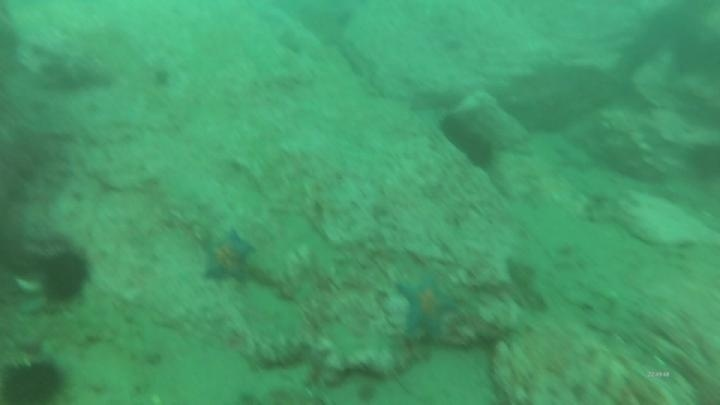echinus: (1, 355, 70, 404), (37, 247, 93, 307), (458, 131, 498, 172), (684, 139, 720, 184), (437, 112, 474, 149)
starfish: (394, 272, 460, 342), (197, 227, 257, 287)
